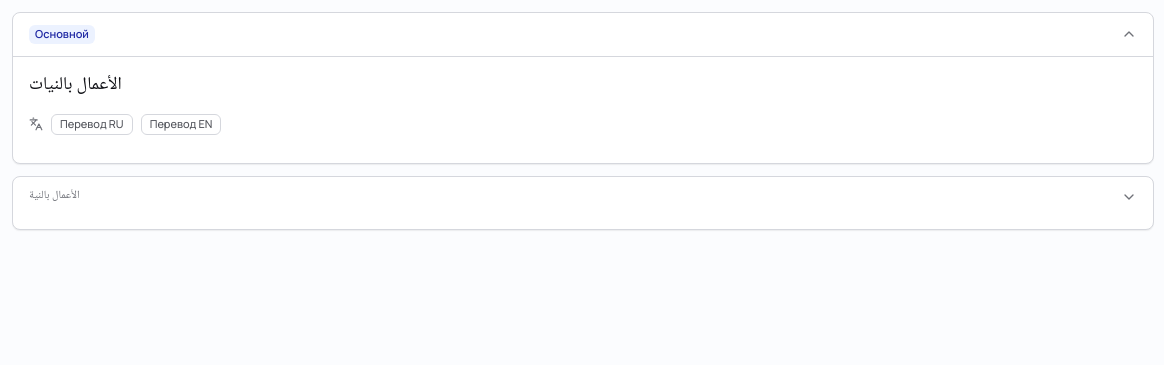
it: MatnVariations › кнопка diff появляется после раскрытия НЕ-основной редакции
Note: раскрываем вариант (его шапка содержит № — но проще по preview-тексту)
Click the button "الأعمال بالنية": (54, 196) left=13, top=177, right=1153, bottom=217
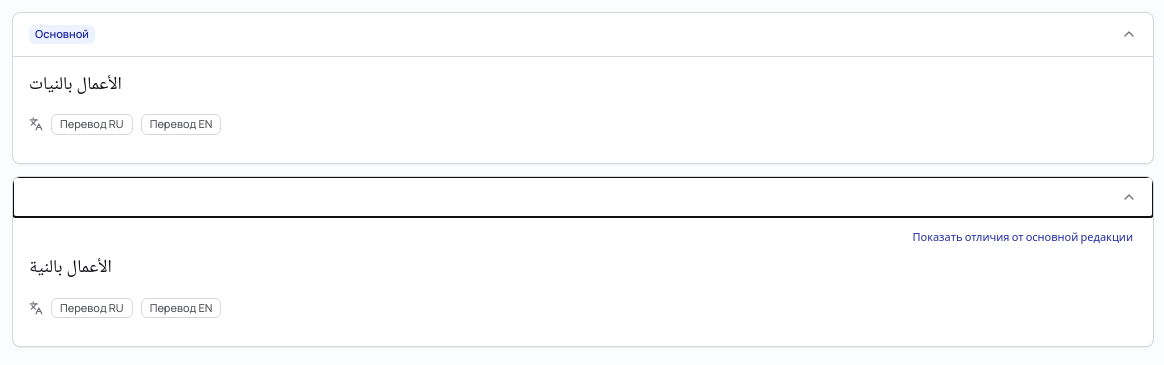
Now the button "Показать отличия от основной редакции" is shown, box left=908, top=230, right=1137, bottom=244
